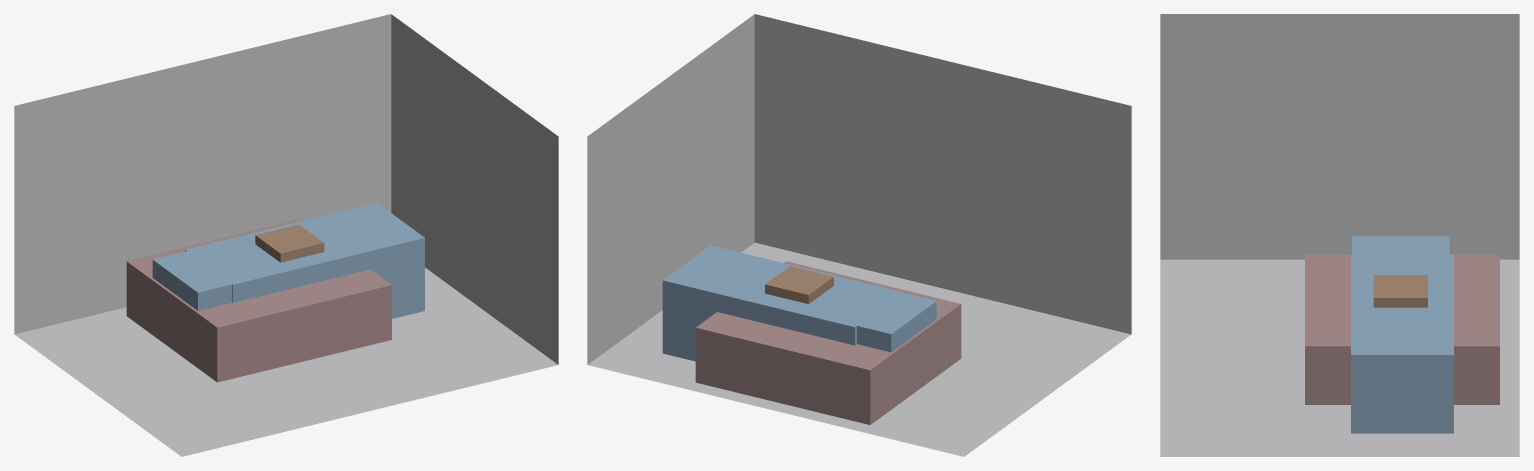
Rendered from current_layout.glb.
3 views of the same model, side by side, from view 1: azimuth 30°, elevation 25°; view 2: azimuth 150°, elevation 25°; view 3: azimuth 270°, elevation 25° (orthographic). The views are drawn at different scales.
Parts seen in each view (by area): view 1: room, bed, couch, sofa, chair; view 2: room, bed, couch, sofa, chair; view 3: room, couch, bed, sofa, chair.
Boxes of the visible parts, x1,y1,x2,y2 form: room: (14,14,558,456); bed: (126,218,391,382); couch: (185,203,424,318); sofa: (152,217,371,310); chair: (255,224,324,262); room: (587,14,1131,456); bed: (695,261,961,424); couch: (662,245,902,361); sofa: (722,258,936,352); chair: (765,266,833,304); room: (1160,14,1519,456); couch: (1351,254,1453,433); bed: (1305,254,1499,404); sofa: (1352,236,1449,327); chair: (1373,275,1427,307).
Size of the model in its own units: 4.31 by 2.5 by 3.32.
